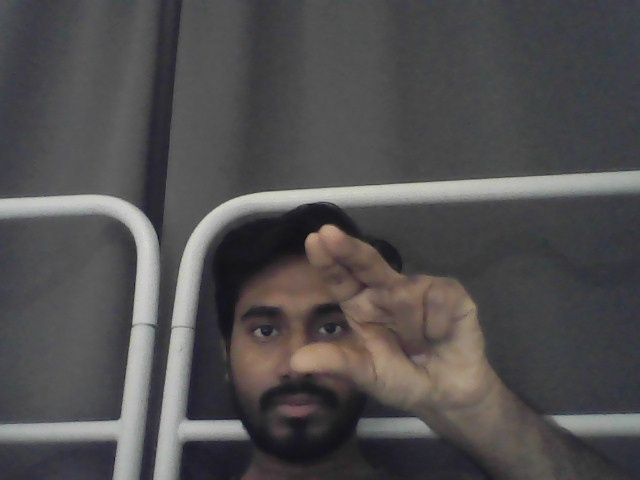no: (290, 223, 492, 419)
